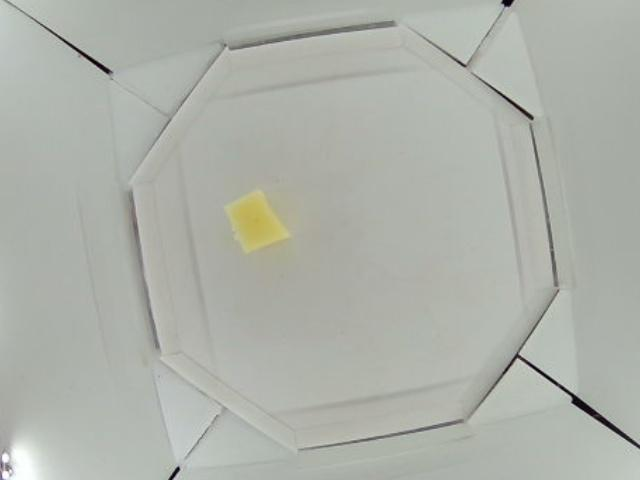Potato: (227, 191, 289, 257)
